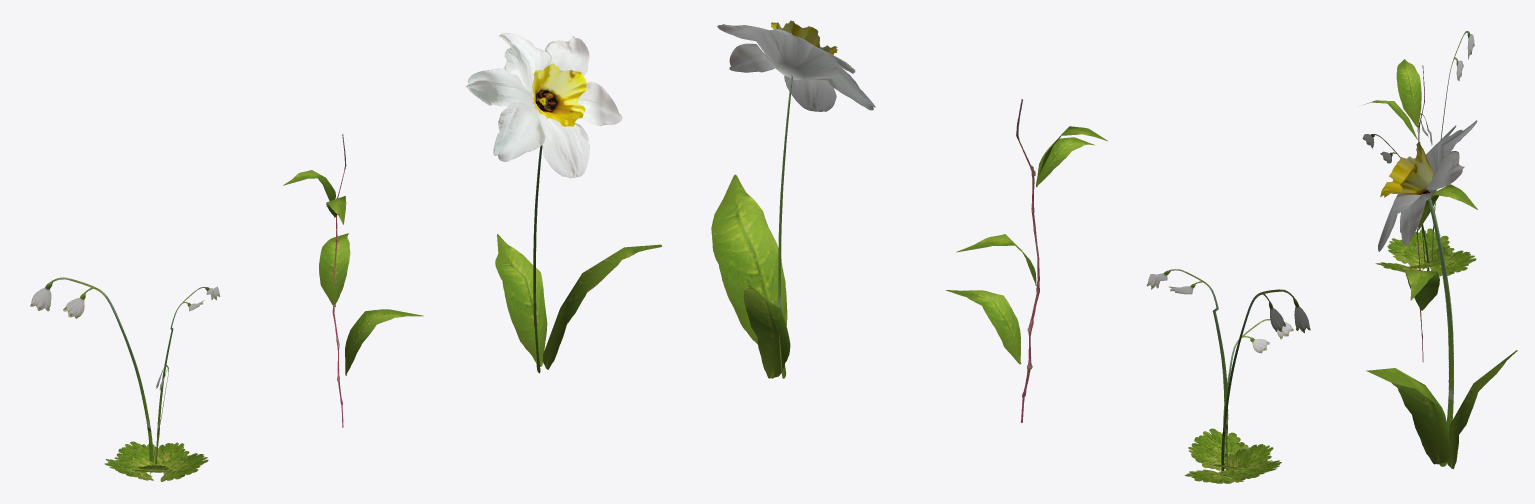
The model's file is SWMiscplants.fbx.
3 views of the same model, side by side, from view 1: azimuth 30°, elevation 25°; view 2: azimuth 150°, elevation 25°; view 3: azimuth 270°, elevation 25° (orthographic). The views are drawn at different scales.
Visible parts, largest first — view 1: Daffodil, Bellflower, Riverplant; view 2: Daffodil, Bellflower, Riverplant; view 3: Daffodil, Riverplant, Bellflower.
Part boxes in pixels (x1=…): Daffodil: x1=465, y1=33, x2=661, y2=373; Bellflower: x1=30, y1=277, x2=220, y2=481; Riverplant: x1=283, y1=134, x2=423, y2=427; Daffodil: x1=711, y1=20, x2=875, y2=378; Bellflower: x1=1146, y1=269, x2=1310, y2=483; Riverplant: x1=946, y1=99, x2=1107, y2=422; Daffodil: x1=1366, y1=120, x2=1517, y2=469; Riverplant: x1=1364, y1=59, x2=1477, y2=362; Bellflower: x1=1362, y1=31, x2=1476, y2=276.
Size of the model in its own units: 401 by 222 by 96.72.
Materials: 1 (1 with a texture image).
